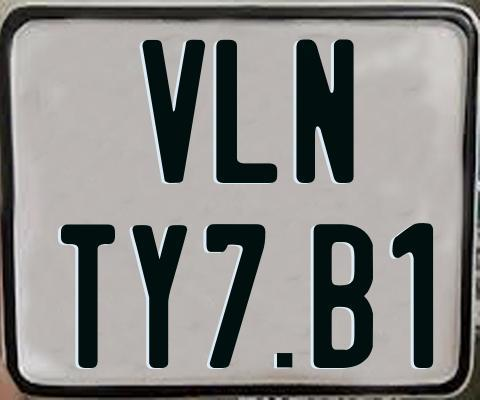1: (390, 221, 431, 372)
7: (203, 221, 265, 365)
B: (311, 222, 374, 367)
L: (214, 37, 277, 185)
N: (296, 38, 358, 185)
T: (60, 222, 118, 368)
V: (141, 37, 204, 181)
Y: (130, 223, 185, 366)
